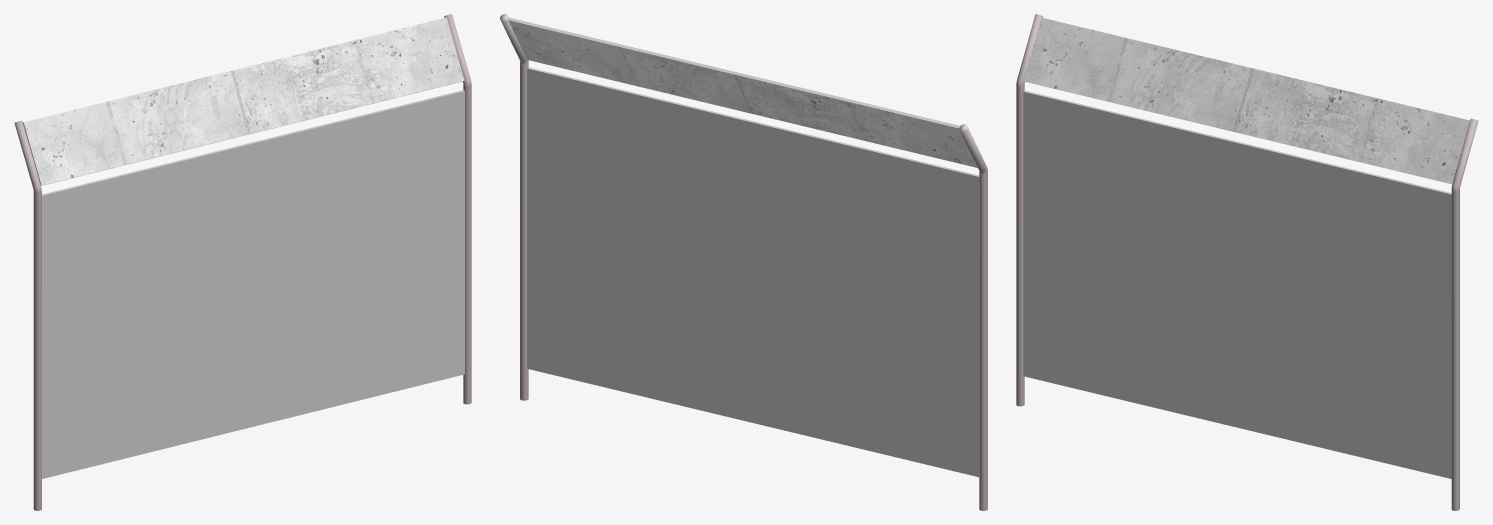
The model's file is Walls.fbx.
3 renders of one model, left to right at view 1: azimuth 30°, elevation 25°; view 2: azimuth 150°, elevation 25°; view 3: azimuth 330°, elevation 25°, orthographic. The views are drawn at different scales.
Visible parts, largest first — view 1: Wall 1.006; view 2: Wall 1.006; view 3: Wall 1.006.
Boxes of the visible parts, x1=… form: Wall 1.006: x1=14, y1=14, x2=471, y2=510; Wall 1.006: x1=500, y1=14, x2=987, y2=510; Wall 1.006: x1=1016, y1=14, x2=1478, y2=510.
Size of the model in its own units: 163 by 133 by 15.84.
3 materials, 1 textured.
